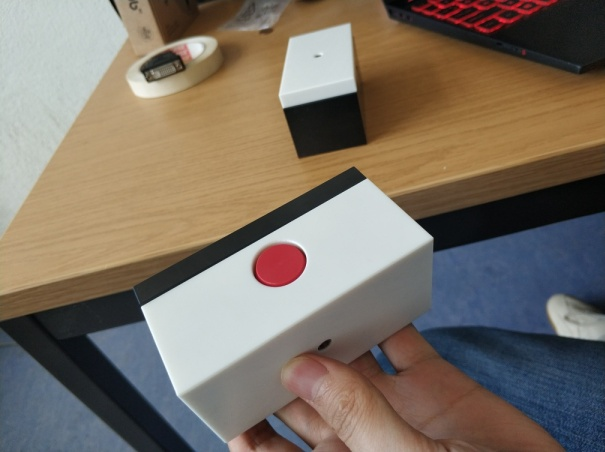black+white+red: (126, 164, 435, 445)
